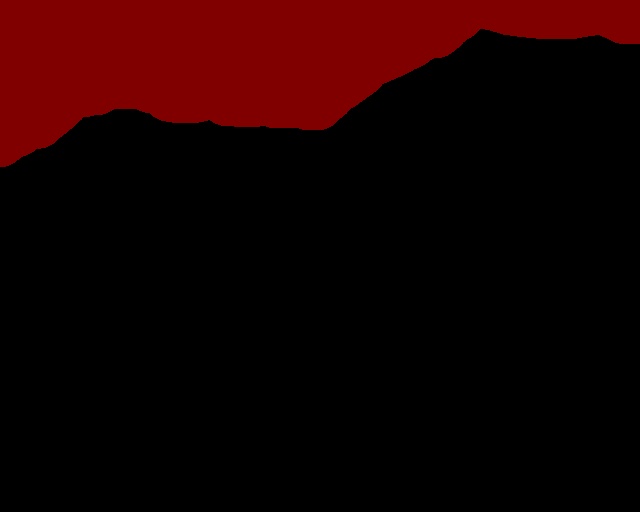Sky: (1, 1, 639, 167)
